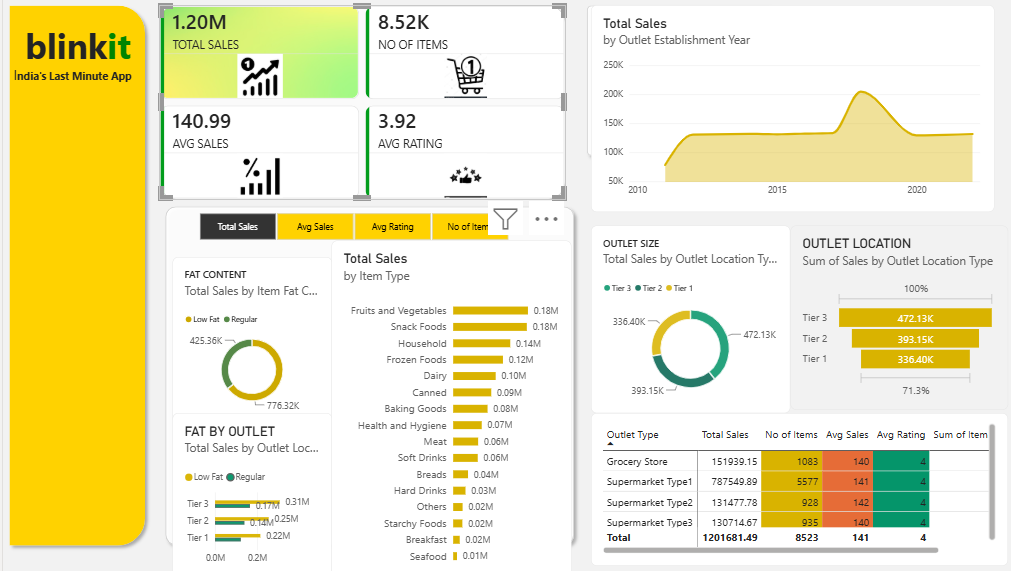

Layout of this report page (visuals, bound fields, positions):
{"tool":"powerbi","page":{"name":"Page 1","canvas":[1400,800],"ordinal":0},"visuals":[{"type":"shape","box":[0,0,204.7,762.1],"z":0},{"type":"textbox","box":[14.5,31,177.8,111.6],"z":1000},{"type":"textbox","box":[14.5,90.9,190.2,103.3],"z":2000},{"type":"cardVisual","fields":{"Data":["BlinkIT Grocery Data.Total Sales","BlinkIT Grocery Data.No of Items","BlinkIT Grocery Data.Avg Sales","BlinkIT Grocery Data.Avg Rating"]},"box":[215,8.3,560.1,268.7],"z":3000},{"type":"shape","box":[214.7,277.9,580.7,484.2],"z":4000},{"type":"donutChart","title":"FAT CONTENT","fields":{"Category":["BlinkIT Grocery Data.Item Fat Content"],"Y":["BlinkIT Grocery Data.Total Sales"]},"box":[233,356.1,220,230],"z":5000},{"type":"slicer","fields":{"Values":["Metrics.Metrics"]},"box":[249.6,292.9,465,40],"z":6000},{"type":"clusteredBarChart","title":"FAT BY OUTLET","fields":{"Category":["BlinkIT Grocery Data.Outlet Location Type"],"Series":["BlinkIT Grocery Data.Item Fat Content"],"Y":["BlinkIT Grocery Data.Total Sales"]},"box":[233.6,570.5,220,230],"z":7000},{"type":"barChart","fields":{"Category":["BlinkIT Grocery Data.Item Type"],"Y":["BlinkIT Grocery Data.Total Sales"]},"box":[452.7,332.8,330.7,467.1],"z":8000},{"type":"shape","box":[795.8,0,274,225],"z":9000},{"type":"lineChart","fields":{"Category":["BlinkIT Grocery Data.Outlet Establishment Year"],"Y":["BlinkIT Grocery Data.Total Sales"]},"box":[810.2,8.3,556,285.2],"z":10000},{"type":"donutChart","title":"OUTLET SIZE","fields":{"Category":["BlinkIT Grocery Data.Outlet Location Type"],"Y":["BlinkIT Grocery Data.Total Sales"]},"box":[810.2,312.1,274.9,258.4],"z":11000},{"type":"funnel","title":"OUTLET LOCATION","fields":{"Category":["BlinkIT Grocery Data.Outlet Location Type"],"Y":["Sum(BlinkIT Grocery Data.Sales)"]},"box":[1085.1,312.1,299.7,254.2],"z":12000},{"type":"pivotTable","fields":{"Rows":["BlinkIT Grocery Data.Outlet Type"],"Values":["BlinkIT Grocery Data.Total Sales","BlinkIT Grocery Data.No of Items","BlinkIT Grocery Data.Avg Sales","BlinkIT Grocery Data.Avg Rating","Sum(BlinkIT Grocery Data.Item Visibility)"]},"box":[810.2,570.5,574.6,210.8],"z":12001}]}

Visuals, with their boxes in screenshot pixels (x1, y1, x2, y2), scaled from the page's 1400x800 canvas onto the 1011x571 screenshot:
shape: (x1=0, y1=0, x2=148, y2=544)
textbox: (x1=10, y1=22, x2=139, y2=102)
textbox: (x1=10, y1=65, x2=148, y2=139)
cardVisual - BlinkIT Grocery Data.Total Sales x BlinkIT Grocery Data.No of Items: (x1=155, y1=6, x2=560, y2=198)
shape: (x1=155, y1=198, x2=574, y2=544)
"FAT CONTENT" donutChart: (x1=168, y1=254, x2=327, y2=418)
slicer - Metrics.Metrics: (x1=180, y1=209, x2=516, y2=238)
"FAT BY OUTLET" clusteredBarChart: (x1=169, y1=407, x2=328, y2=570)
barChart - BlinkIT Grocery Data.Item Type x BlinkIT Grocery Data.Total Sales: (x1=327, y1=238, x2=566, y2=570)
shape: (x1=575, y1=0, x2=773, y2=161)
lineChart - BlinkIT Grocery Data.Outlet Establishment Year x BlinkIT Grocery Data.Total Sales: (x1=585, y1=6, x2=987, y2=209)
"OUTLET SIZE" donutChart: (x1=585, y1=223, x2=784, y2=407)
"OUTLET LOCATION" funnel: (x1=784, y1=223, x2=1000, y2=404)
pivotTable - BlinkIT Grocery Data.Outlet Type x BlinkIT Grocery Data.Total Sales: (x1=585, y1=407, x2=1000, y2=558)
